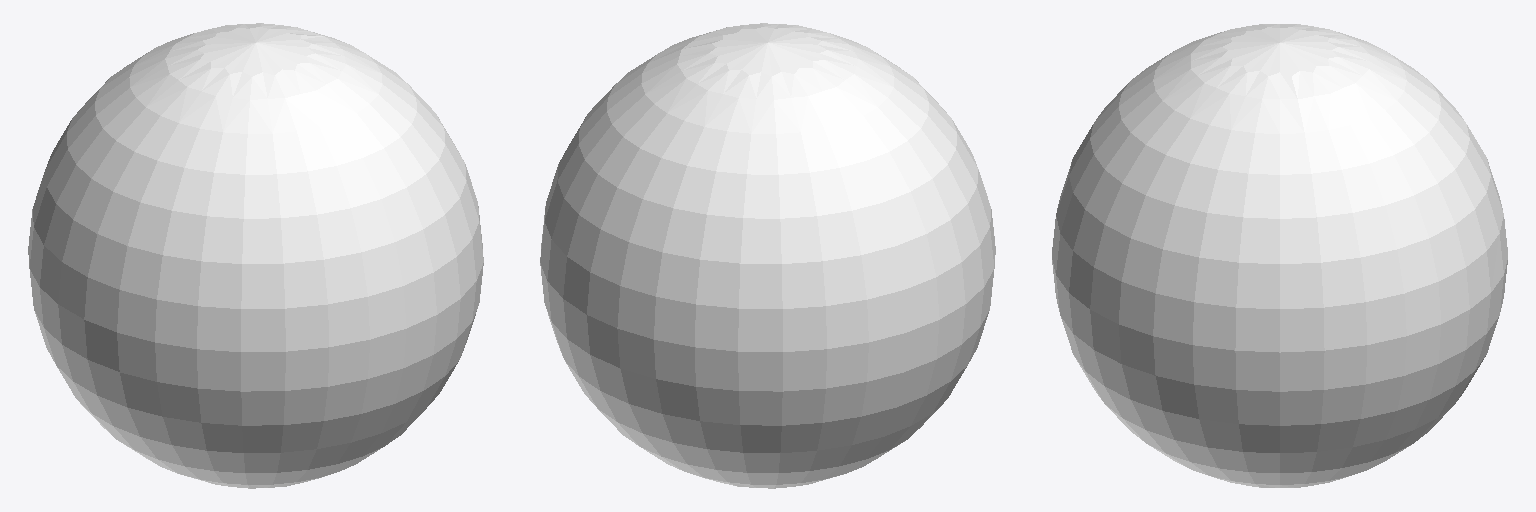
The model's file is luna.obj.
The picture shows the model from 3 angles: view 1: azimuth 30°, elevation 25°; view 2: azimuth 150°, elevation 25°; view 3: azimuth 270°, elevation 25°; orthographic projection.
Visible parts, largest first — view 1: sphere1; view 2: sphere1; view 3: sphere1.
Part boxes in pixels (x1,y1,x2,y2): sphere1: (28, 23, 483, 488); sphere1: (540, 23, 995, 488); sphere1: (1052, 24, 1507, 487).
Bounding box in the file's own units: 4.21 × 4.34 × 4.21.